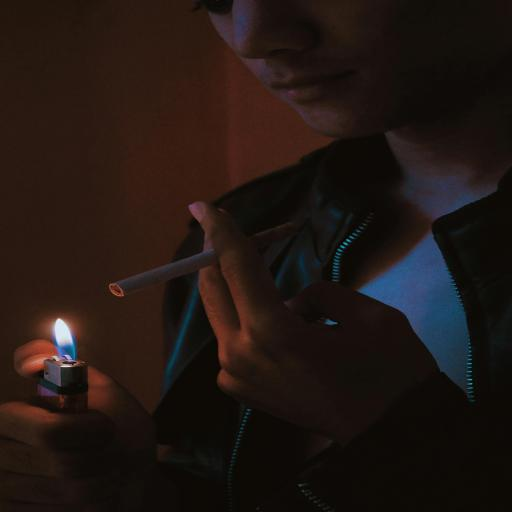pegang rokok: (91, 161, 298, 350)
